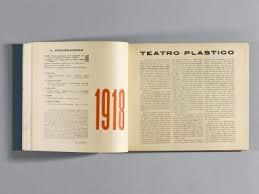Paper: (6, 26, 256, 167)
